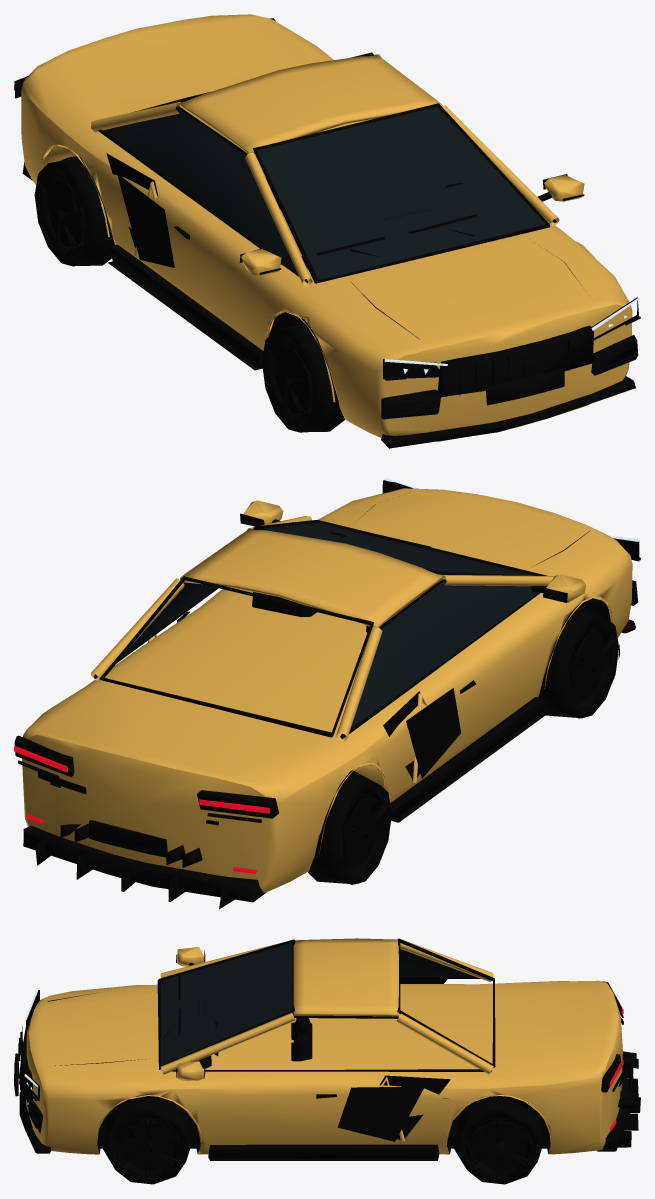
Rendered from sport-far.glb.
3 views of the same model, one above another, from view 1: azimuth 30°, elevation 25°; view 2: azimuth 150°, elevation 25°; view 3: azimuth 270°, elevation 25° (orthographic). The views are drawn at different scales.
Visible parts, largest first — view 1: chassis.001__Automotive clearcoat, chassis.001__Solar glass, chassis.001__Vehicle detail atlas, wheel_FL.001__Vehicle detail atlas, wheel_RL.001__Vehicle detail atlas; view 2: chassis.001__Automotive clearcoat, chassis.001__Vehicle detail atlas, chassis.001__Solar glass, wheel_FL.001__Vehicle detail atlas, wheel_RL.001__Vehicle detail atlas, chassis.001__Red LED optics; view 3: chassis.001__Automotive clearcoat, chassis.001__Vehicle detail atlas, chassis.001__Solar glass, wheel_RR.001__Vehicle detail atlas, wheel_FR.001__Vehicle detail atlas.
Part boxes in pixels (x1,y1,x2,y2): chassis.001__Automotive clearcoat: (21,14,632,441); chassis.001__Solar glass: (104,106,545,281); chassis.001__Vehicle detail atlas: (14,18,639,448); wheel_FL.001__Vehicle detail atlas: (262,322,345,432); wheel_RL.001__Vehicle detail atlas: (34,156,114,266); chassis.001__Automotive clearcoat: (22,488,632,892); chassis.001__Vehicle detail atlas: (14,480,639,909); chassis.001__Solar glass: (123,522,537,728); wheel_FL.001__Vehicle detail atlas: (538,604,619,718); wheel_RL.001__Vehicle detail atlas: (308,770,391,884); chassis.001__Red LED optics: (14,746,269,873); chassis.001__Automotive clearcoat: (26,938,622,1154); chassis.001__Vehicle detail atlas: (14,938,640,1160); chassis.001__Solar glass: (160,942,474,1065); wheel_RR.001__Vehicle detail atlas: (454,1096,544,1184); wheel_FR.001__Vehicle detail atlas: (103,1096,193,1184).
Size of the model in its own units: 2.17 by 1.31 by 4.58.
8 materials, 6 textured.
